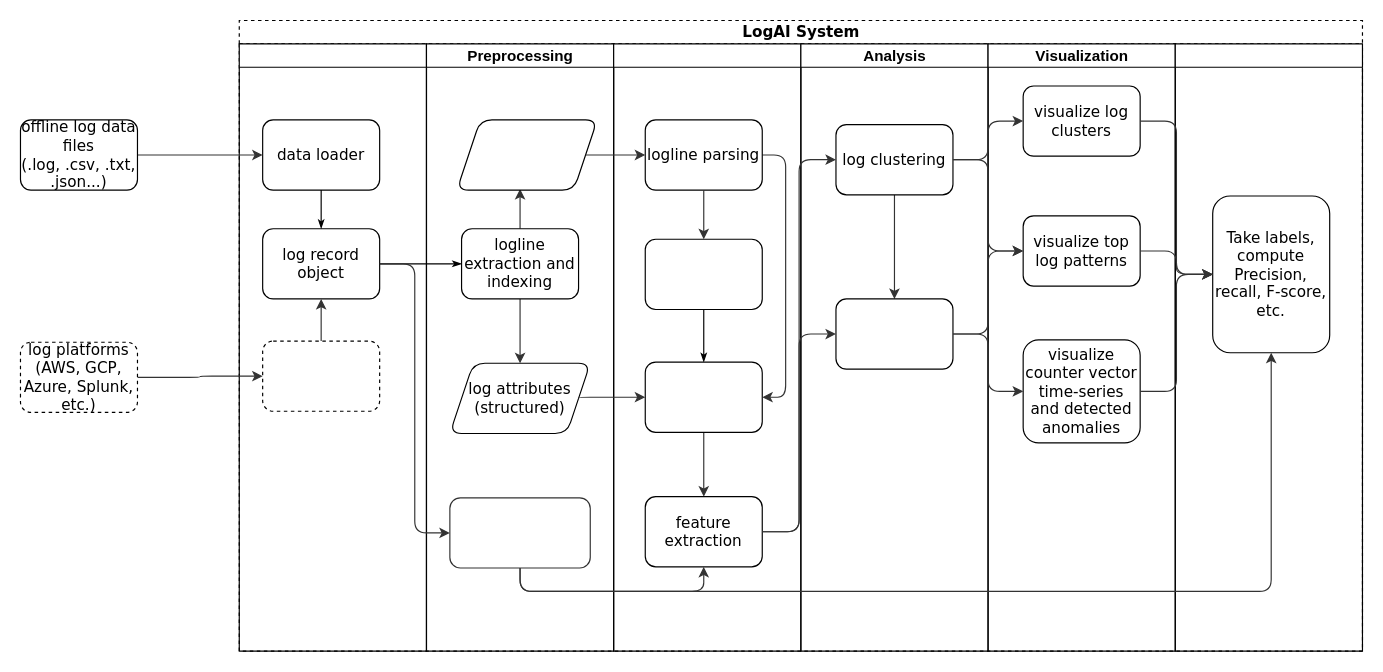
Some shapes in this 1383 by 672 pixel diagram are drawn without their labels. Each missing label, with the box of its shape:
connectors: (261, 340, 380, 411)
Data Layer: (238, 43, 426, 651)
Evaluation: (1174, 43, 1362, 651)
Information Extraction: (612, 43, 801, 651)
log labels: (449, 497, 590, 568)
log record integration: (644, 361, 762, 432)
Log text vectorization: (644, 238, 762, 309)
log-based anomaly detection: (835, 298, 953, 369)
logline (unstructured): (456, 119, 597, 190)
